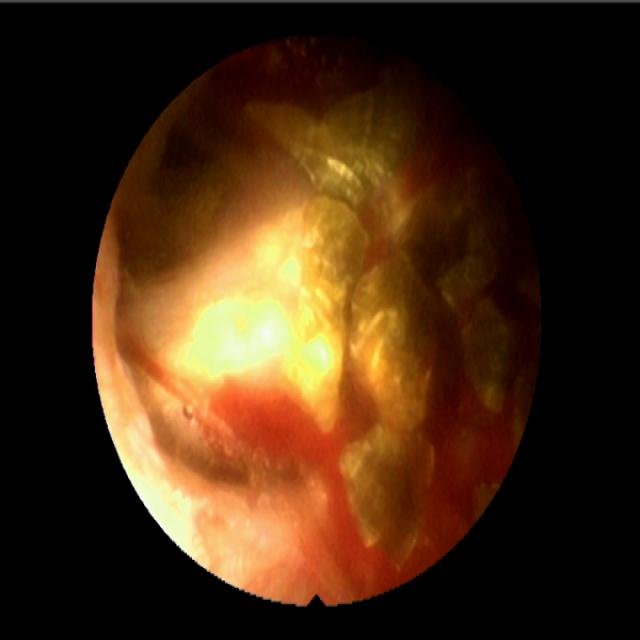stone: (174, 69, 515, 569)
